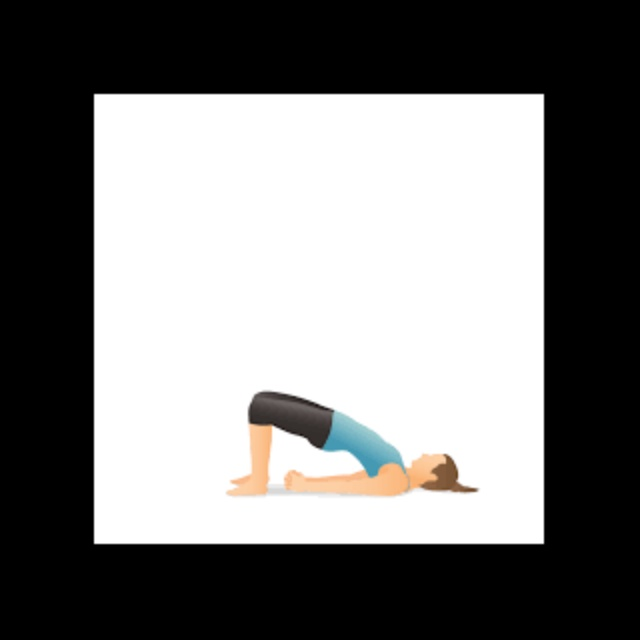Bridge_Pose: (224, 373, 486, 503)
